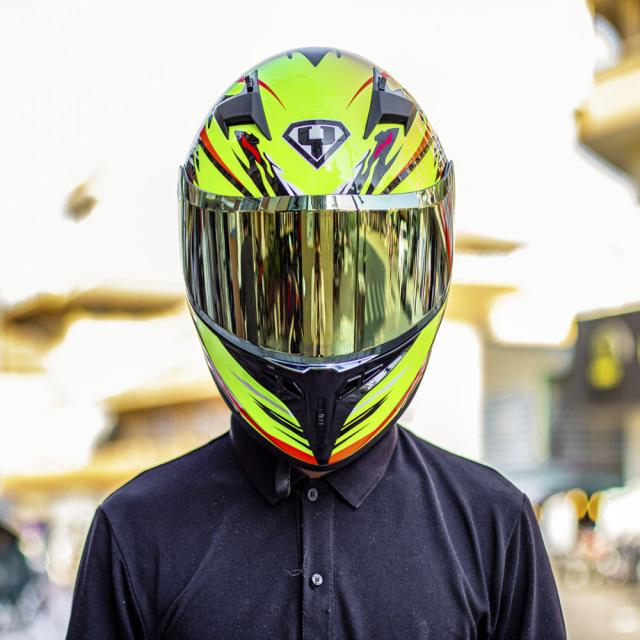helmet: (177, 44, 454, 475)
